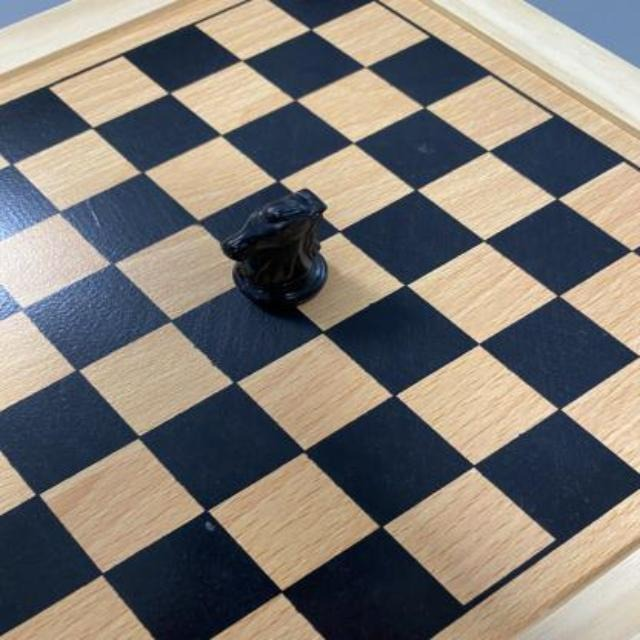black-knight: (218, 188, 331, 306)
